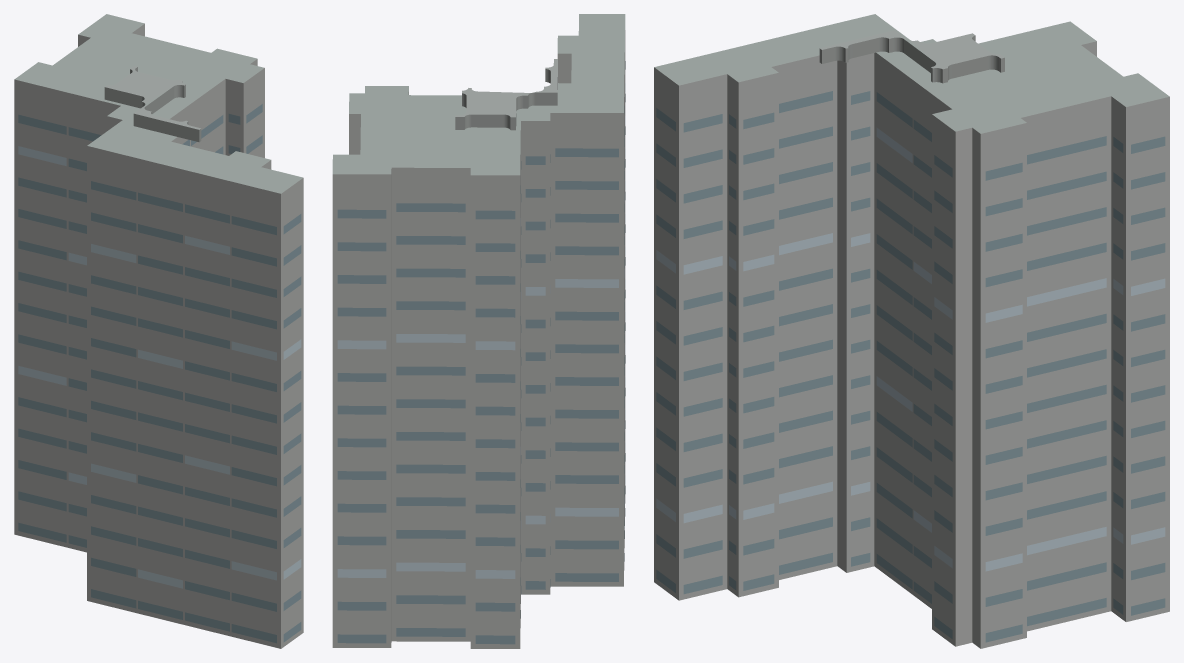
Rendered from fallback-onebailey-103.glb.
The picture shows the model from 3 angles, left to right: view 1: azimuth 30°, elevation 25°; view 2: azimuth 150°, elevation 25°; view 3: azimuth 270°, elevation 25°; orthographic projection. The views are drawn at different scales.
Parts seen in each view (by area): view 1: fallback-onebailey-103; view 2: fallback-onebailey-103; view 3: fallback-onebailey-103.
Boxes of the visible parts, left/top/right/bottom form: fallback-onebailey-103: left=14, top=14, right=303, bottom=648; fallback-onebailey-103: left=332, top=14, right=625, bottom=648; fallback-onebailey-103: left=654, top=14, right=1169, bottom=648.
Bounding box in the file's own units: 43.76 × 90 × 79.52.
